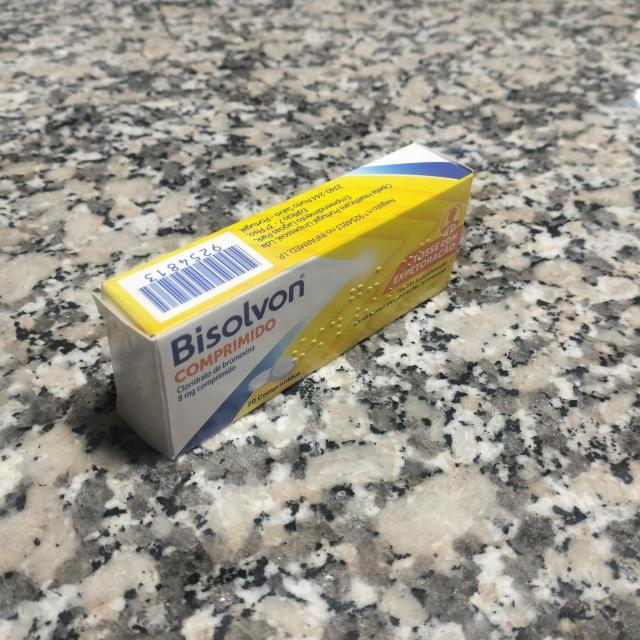box: (101, 142, 474, 460)
